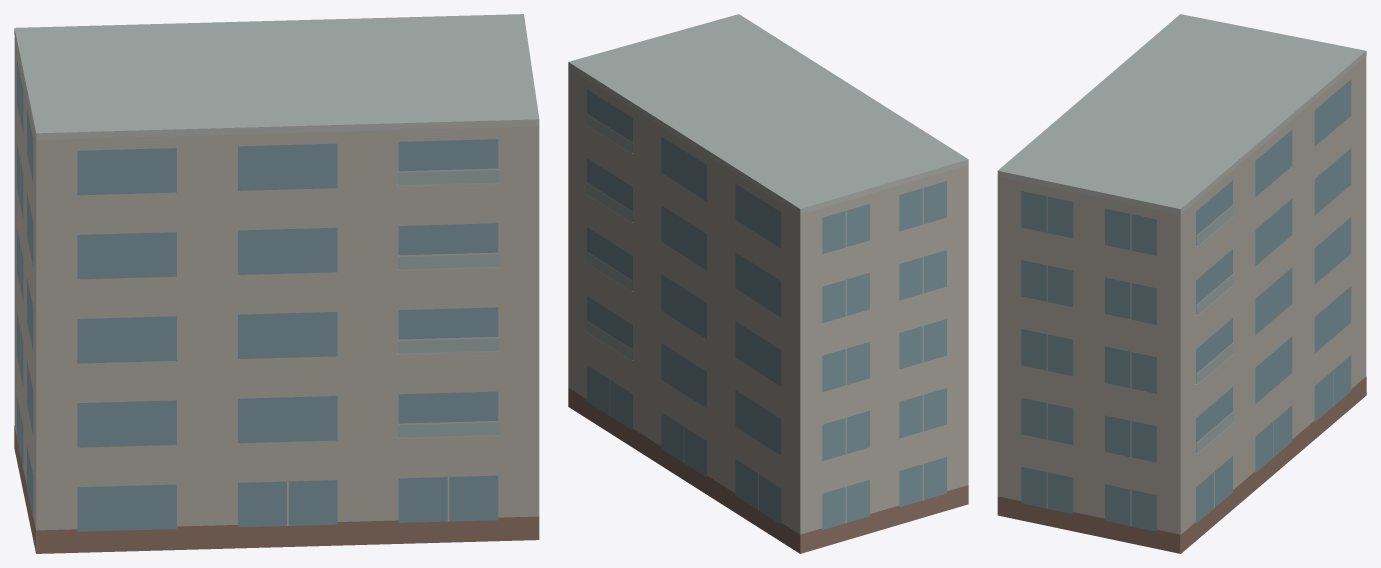
File: survey-upis-32953033.glb
3 views of the same model, side by side, from view 1: azimuth 30°, elevation 25°; view 2: azimuth 150°, elevation 25°; view 3: azimuth 270°, elevation 25° (orthographic). The views are drawn at different scales.
Parts seen in each view (by area): view 1: survey-upis-32953033.tmp; view 2: survey-upis-32953033.tmp; view 3: survey-upis-32953033.tmp.
Boxes of the visible parts, bbox=[...] form: survey-upis-32953033.tmp: bbox=[14, 14, 539, 553]; survey-upis-32953033.tmp: bbox=[568, 14, 968, 553]; survey-upis-32953033.tmp: bbox=[997, 14, 1366, 553].
Size of the model in its own units: 18.53 by 15.25 by 14.8.
